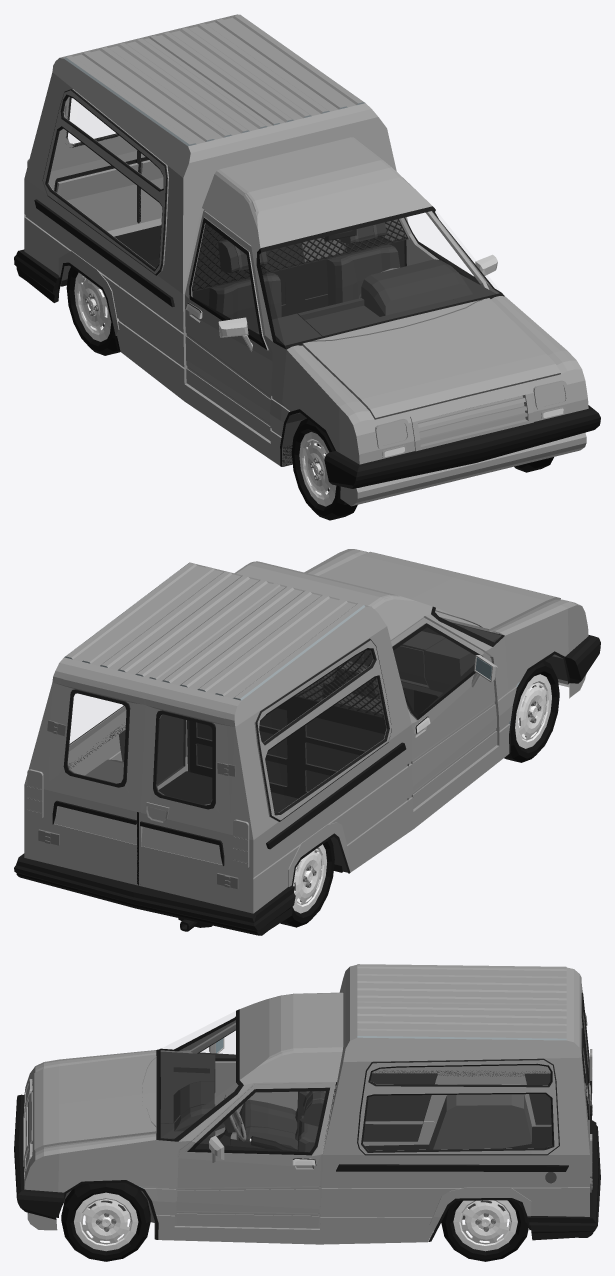
Rendered from clando.glb.
3 views of the same model, one above another, from view 1: azimuth 30°, elevation 25°; view 2: azimuth 150°, elevation 25°; view 3: azimuth 270°, elevation 25° (orthographic). The views are drawn at different scales.
Visible parts, largest first — view 1: Caisse, Capot, Porte avant, Parechoc avant, Chaises, Contour, Pneus avant droit, Banquette, Grille, object 14, Porte avant.001, object 11; view 2: Caisse, Porte avant, Banquette, Capot, object 11, Contour, Pneus avant droit, object 14, Grille, object 9, Parechoc avant, Chaises; view 3: Caisse, Porte avant.001, Capot, Pneus avant gauche, Contour, object 15, Chaises, object 11, Porte avant, Parechoc avant, Volant.
Boxes of the visible parts, <box> form: Caisse: <box>24,14,588,506</box>; Capot: <box>302,298,560,419</box>; Porte avant: <box>185,210,272,440</box>; Parechoc avant: <box>324,405,600,488</box>; Chaises: <box>208,222,400,334</box>; Contour: <box>42,89,504,466</box>; Pneus avant droit: <box>291,418,357,520</box>; Banquette: <box>192,238,406,316</box>; Grille: <box>192,210,408,291</box>; object 14: <box>66,267,120,355</box>; Porte avant.001: <box>399,212,497,286</box>; object 11: <box>14,249,59,302</box>; Caisse: <box>24,549,588,931</box>; Porte avant: <box>390,618,497,808</box>; Banquette: <box>187,696,386,798</box>; Capot: <box>319,551,560,631</box>; object 11: <box>14,853,295,935</box>; Contour: <box>69,606,569,885</box>; Pneus avant droit: <box>504,661,559,762</box>; object 14: <box>280,839,334,927</box>; Grille: <box>295,650,384,717</box>; object 9: <box>27,769,249,869</box>; Parechoc avant: <box>499,633,600,683</box>; Chaises: <box>305,661,383,716</box>; Caisse: <box>23,964,592,1244</box>; Porte avant.001: <box>176,1083,335,1228</box>; Capot: <box>34,1054,156,1150</box>; Pneus avant gauche: <box>61,1182,150,1261</box>; Contour: <box>56,1009,559,1241</box>; object 15: <box>441,1200,528,1261</box>; Chaises: <box>236,1091,325,1152</box>; object 11: <box>527,1120,600,1240</box>; Porte avant: <box>191,1026,297,1133</box>; Parechoc avant: <box>14,1094,64,1219</box>; Volant: <box>215,1094,246,1141</box>.
Size of the model in its own units: 1.36 by 1.22 by 2.97.
3 materials, 1 textured.
